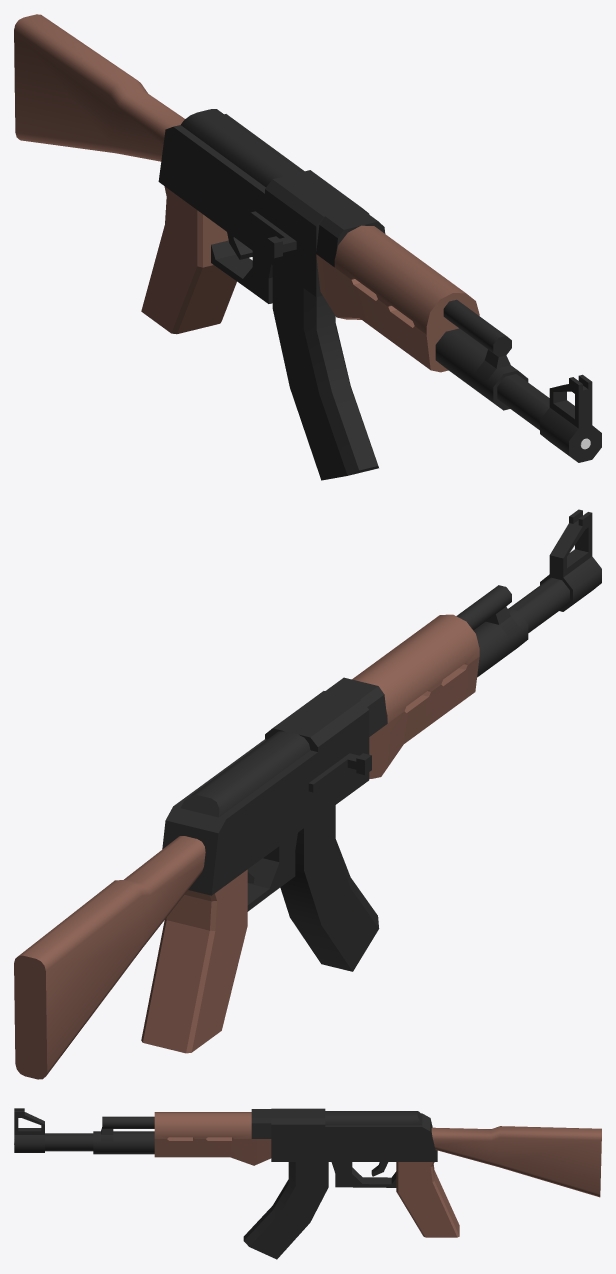
3 views of the same model, one above another, from view 1: azimuth 30°, elevation 25°; view 2: azimuth 150°, elevation 25°; view 3: azimuth 270°, elevation 25° (orthographic). The views are drawn at different scales.
Parts seen in each view (by area): view 1: AK47_Body_12, AK47_Magazine_10, AK47_Bolt_9; view 2: AK47_Body_12, AK47_Magazine_10, AK47_Bolt_9; view 3: AK47_Body_12, AK47_Magazine_10.
Boxes of the visible parts, x1,y1,x2,y2 form: AK47_Body_12: (14,14,601,462); AK47_Magazine_10: (272,265,378,480); AK47_Bolt_9: (250,211,296,258); AK47_Body_12: (14,509,601,1079); AK47_Magazine_10: (280,805,379,971); AK47_Bolt_9: (308,753,371,792); AK47_Body_12: (14,1108,601,1237); AK47_Magazine_10: (243,1162,328,1259).
Size of the model in its own units: 0.1553 by 0.5424 by 1.99.
